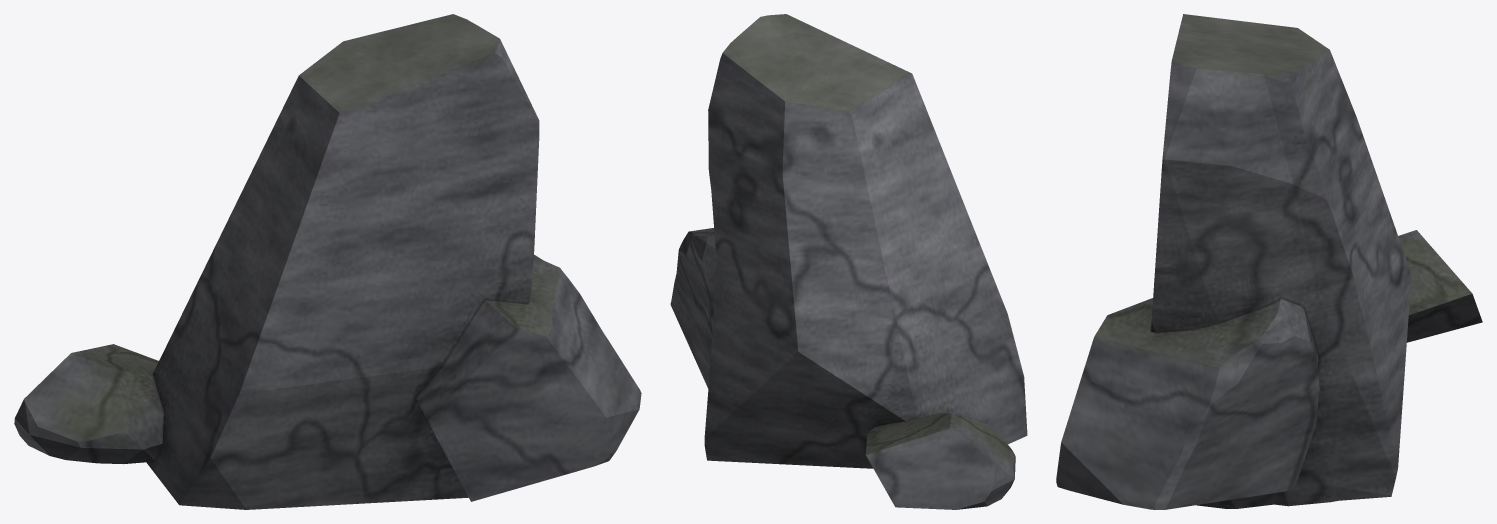
Rendered from fels2.glb.
3 renders of one model, left to right at view 1: azimuth 30°, elevation 25°; view 2: azimuth 150°, elevation 25°; view 3: azimuth 270°, elevation 25°, orthographic. The views are drawn at different scales.
Parts seen in each view (by area): view 1: fels2; view 2: fels2; view 3: fels2.
Part boxes in pixels (box(x1,y1,x2,y2)): fels2: box(14, 14, 641, 509); fels2: box(670, 14, 1027, 509); fels2: box(1056, 14, 1482, 509).
Bounding box in the file's own units: 1.78 × 1.5 × 1.27.
Materials: 1 (1 with a texture image).
